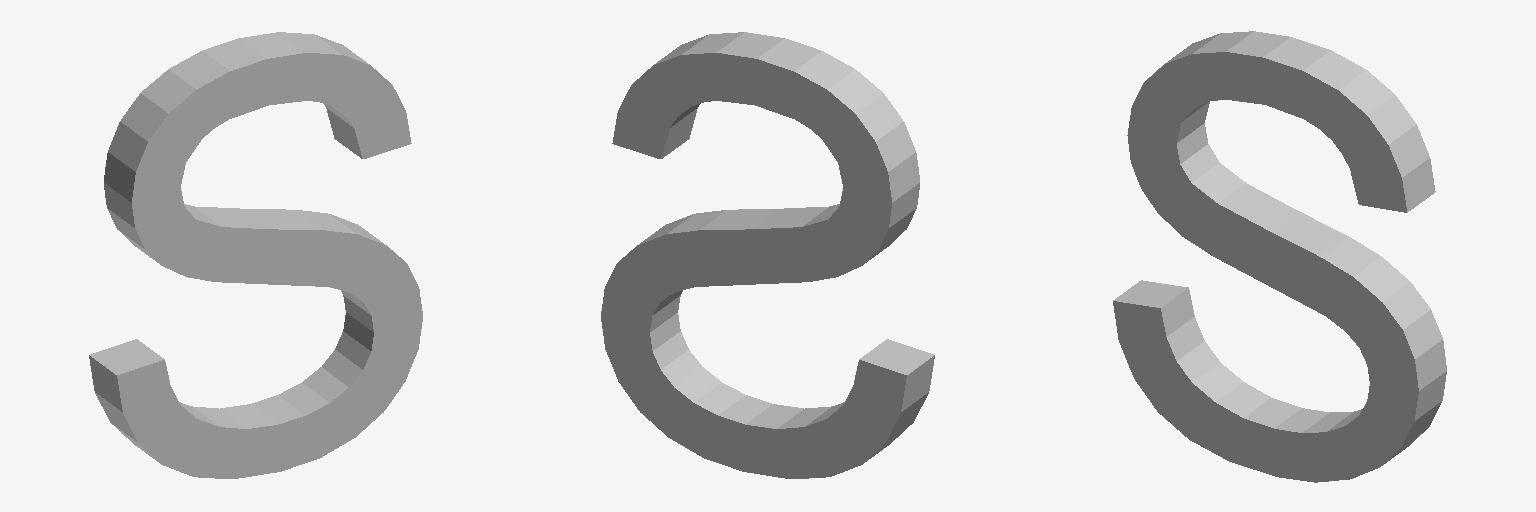
The model's file is original-80.obj.
The picture shows the model from 3 angles: view 1: azimuth 30°, elevation 25°; view 2: azimuth 150°, elevation 25°; view 3: azimuth 330°, elevation 25°; orthographic projection.
Parts seen in each view (by area): view 1: mesh96/mesh96-geometry#mesh96-geometry; view 2: mesh96/mesh96-geometry#mesh96-geometry; view 3: mesh96/mesh96-geometry#mesh96-geometry.
Part boxes in pixels (bbox=[...]): mesh96/mesh96-geometry#mesh96-geometry: bbox=[89, 32, 422, 478]; mesh96/mesh96-geometry#mesh96-geometry: bbox=[601, 32, 934, 478]; mesh96/mesh96-geometry#mesh96-geometry: bbox=[1113, 31, 1446, 482].
Bounding box in the file's own units: 0.0243 × 0.0316 × 0.0039.